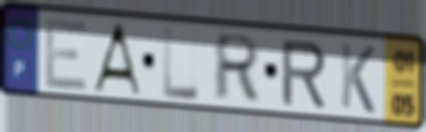A: (88, 21, 143, 98)
E: (42, 16, 90, 94)
K: (338, 40, 377, 117)
L: (161, 24, 202, 103)
R: (210, 31, 263, 102), (279, 39, 329, 110)
